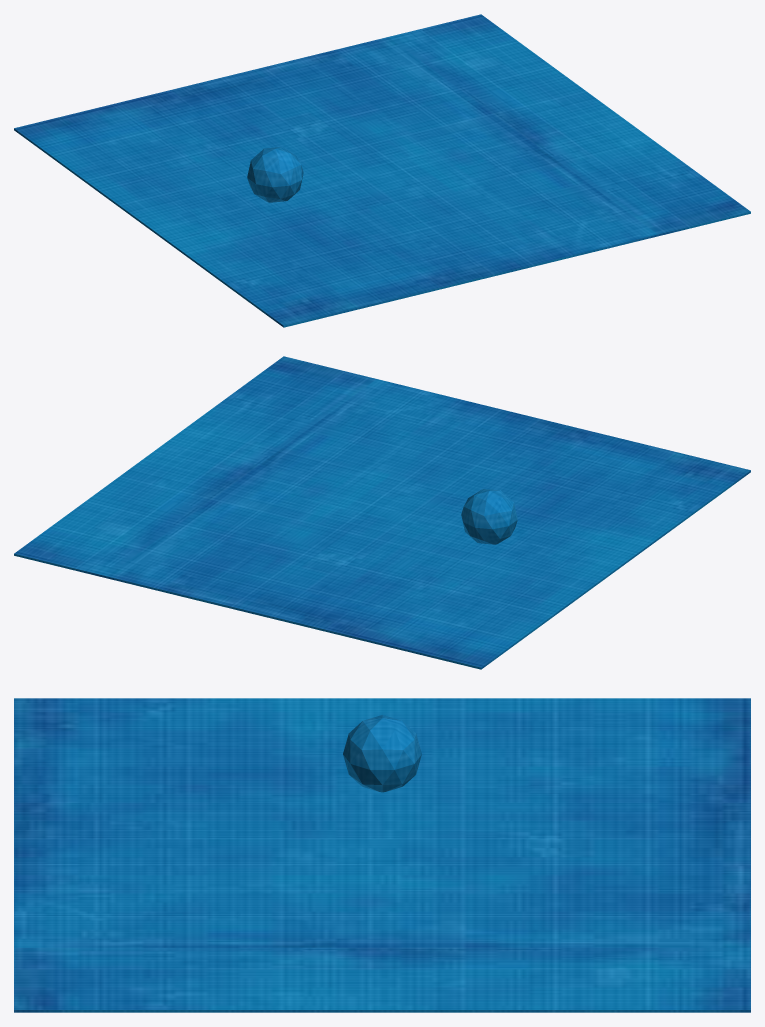
3 views of the same model, one above another, from view 1: azimuth 30°, elevation 25°; view 2: azimuth 150°, elevation 25°; view 3: azimuth 270°, elevation 25° (orthographic). The views are drawn at different scales.
Parts seen in each view (by area): view 1: Icosphere; view 2: Icosphere; view 3: Icosphere.
Part boxes in pixels (box(x1,y1,x2,y2)): Icosphere: box(14, 14, 750, 327); Icosphere: box(14, 356, 750, 669); Icosphere: box(14, 698, 750, 1012).
Bounding box in the file's own units: 1862 × 200 × 1862.
Materials: 1 (1 with a texture image).
